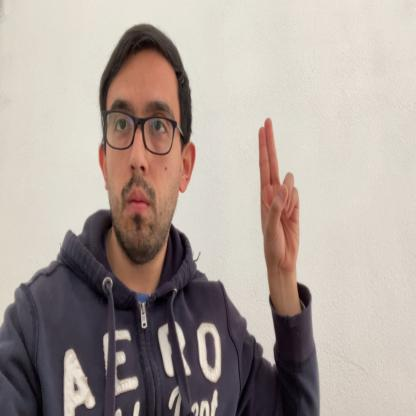U: (258, 117, 300, 270)
